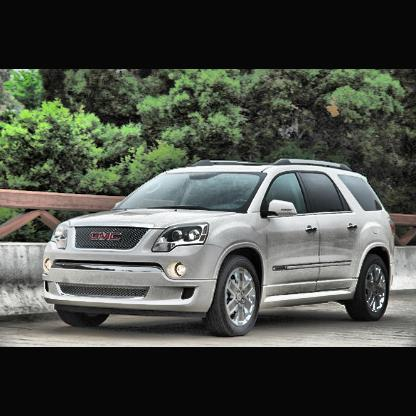GMC Acadia SUV 2012: (41, 157, 397, 339)
